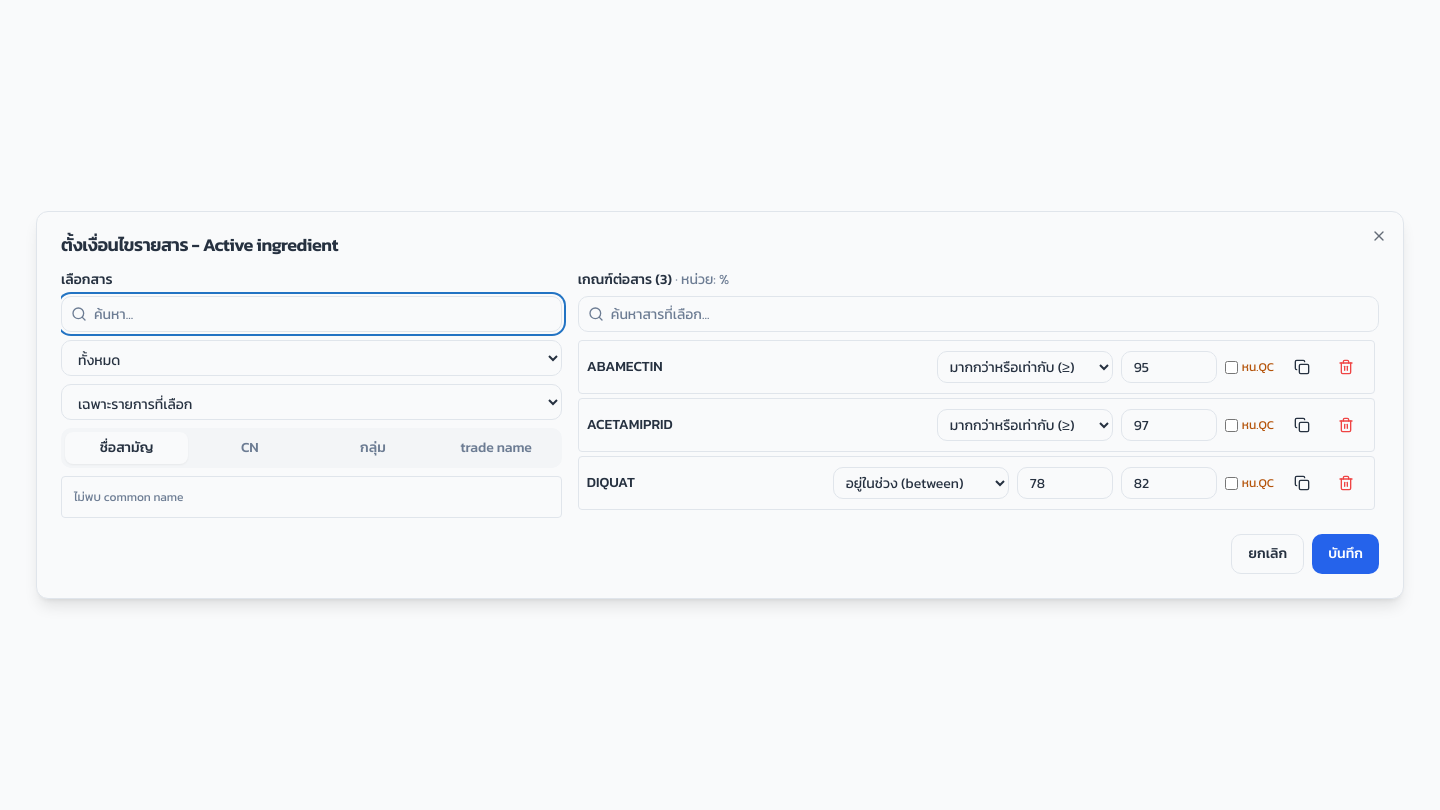
Test: SubstanceStandardsDialog › filters the selected list with its own search box
The image size is (1440, 810).
Step 1. Type "diquat" into the search field with placeholder "ค้นหาสารที่เลือก..." → [978, 314], box [578,296,1379,332]
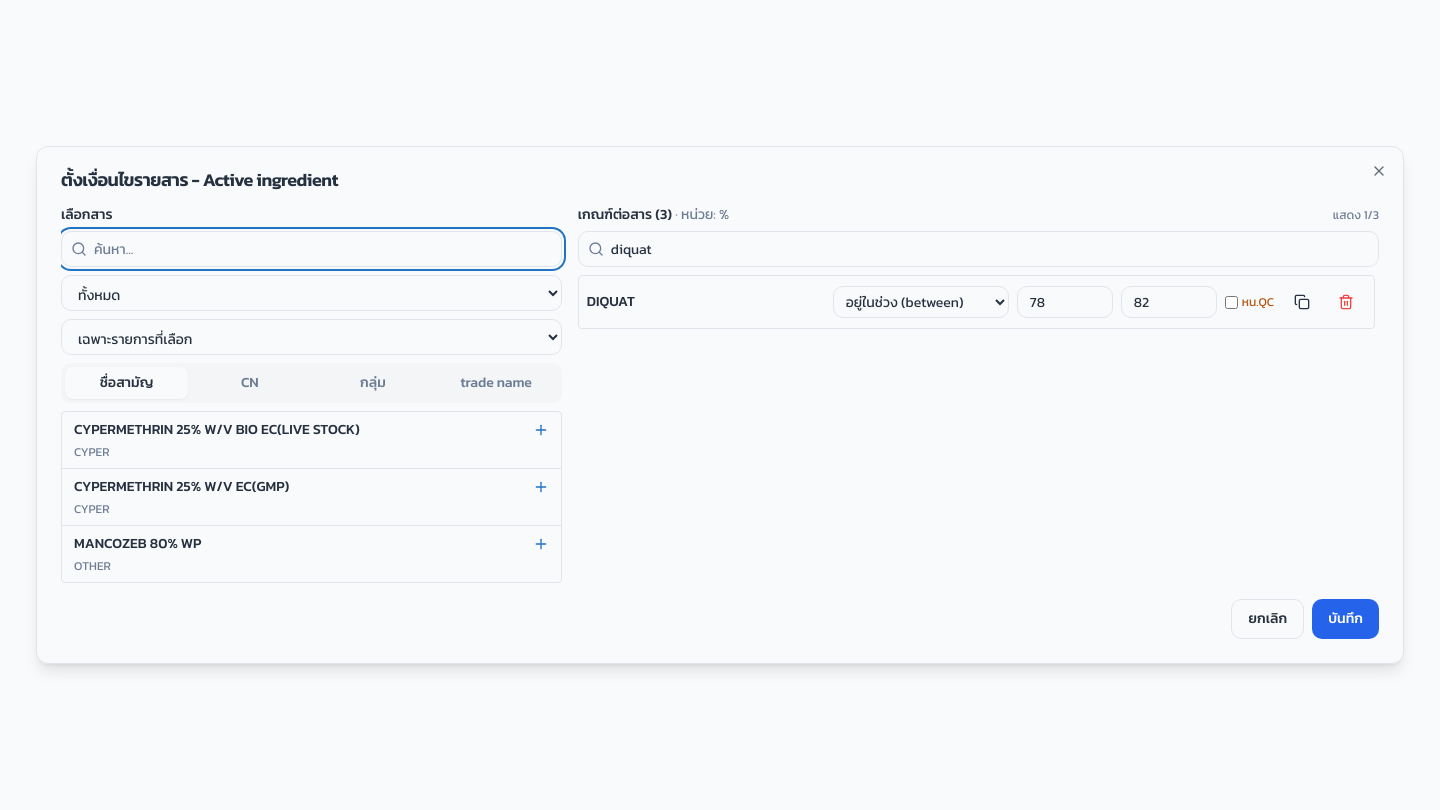
Expected: the number field named "ค่า DIQUAT" is shown, [1017,286,1113,318]
Result: the text labelled "ค่า ABAMECTIN" is gone
Result: the text "แสดง 1/3" is shown at [1333,207,1379,223]
Step 2. Replace the text in the search field with placeholder "ค้นหาสารที่เลือก..." with "ไม่มีสารนี้" → [978, 249], box [578,231,1379,267]
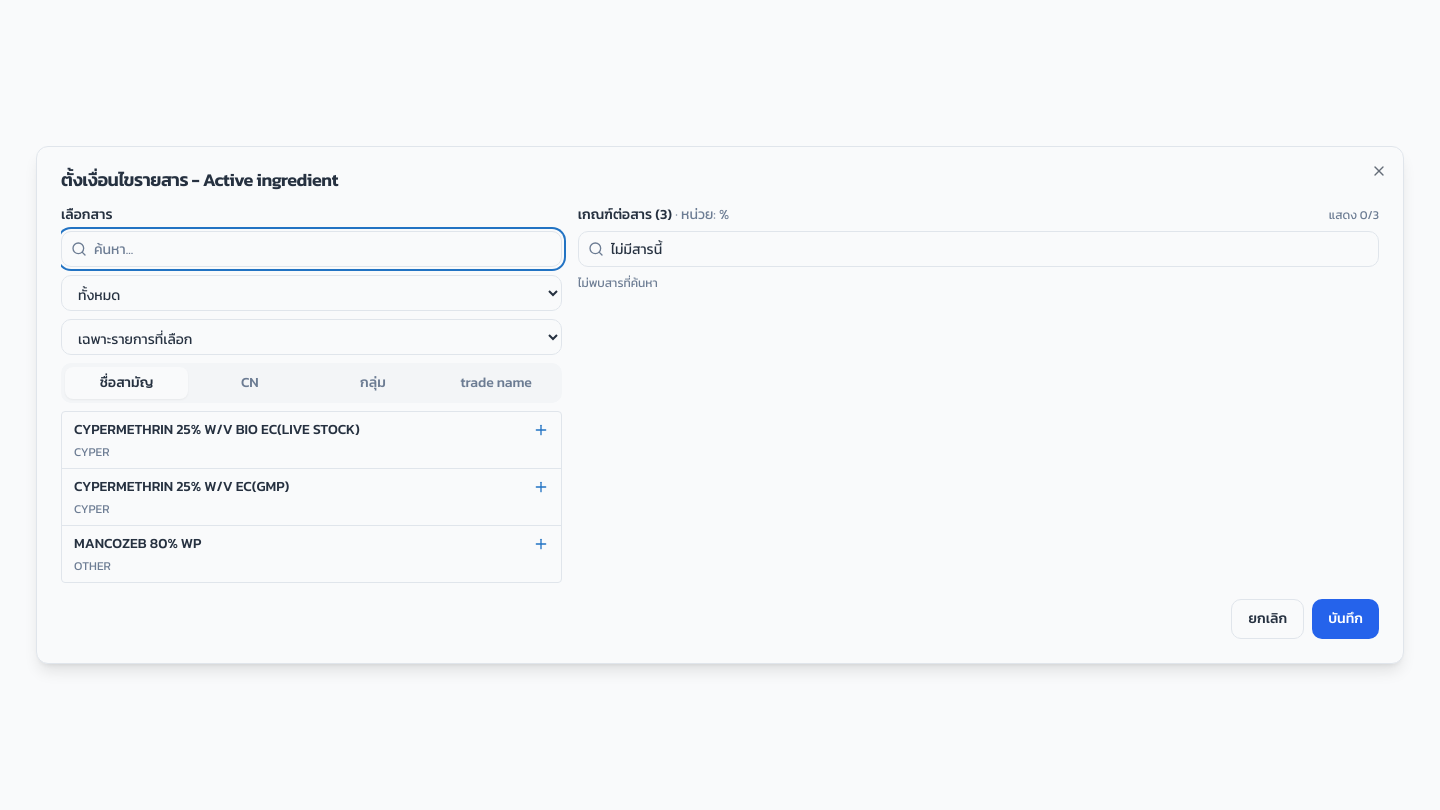
Result: the text "ไม่พบสารที่ค้นหา" is shown at [578,275,658,291]
